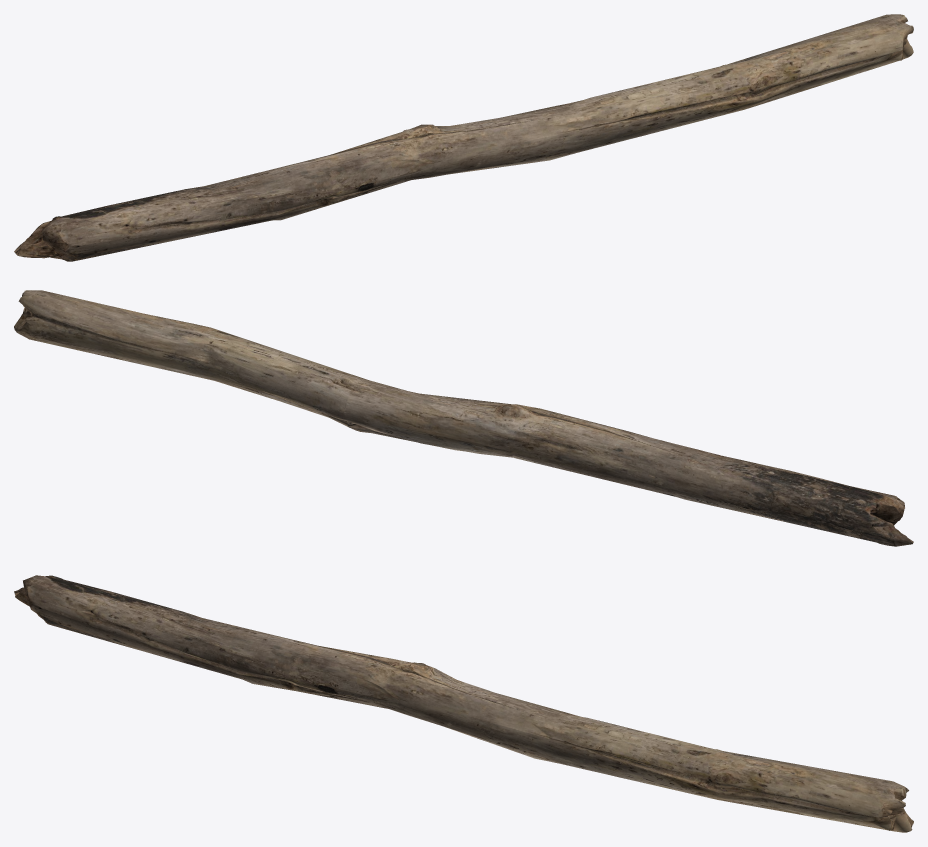
Rendered from driftwood.glb.
The picture shows the model from 3 angles, top to bottom: view 1: azimuth 30°, elevation 25°; view 2: azimuth 150°, elevation 25°; view 3: azimuth 330°, elevation 25°; orthographic projection.
Parts seen in each view (by area): view 1: xlkoadp_LOD0_TIER3_000; view 2: xlkoadp_LOD0_TIER3_000; view 3: xlkoadp_LOD0_TIER3_000.
Boxes of the visible parts, bbox=[...] form: xlkoadp_LOD0_TIER3_000: bbox=[14, 14, 913, 261]; xlkoadp_LOD0_TIER3_000: bbox=[14, 290, 913, 546]; xlkoadp_LOD0_TIER3_000: bbox=[14, 575, 913, 832].
Size of the model in its own units: 0.6453 by 0.0426 by 0.0407.
Materials: 1 (1 with a texture image).
